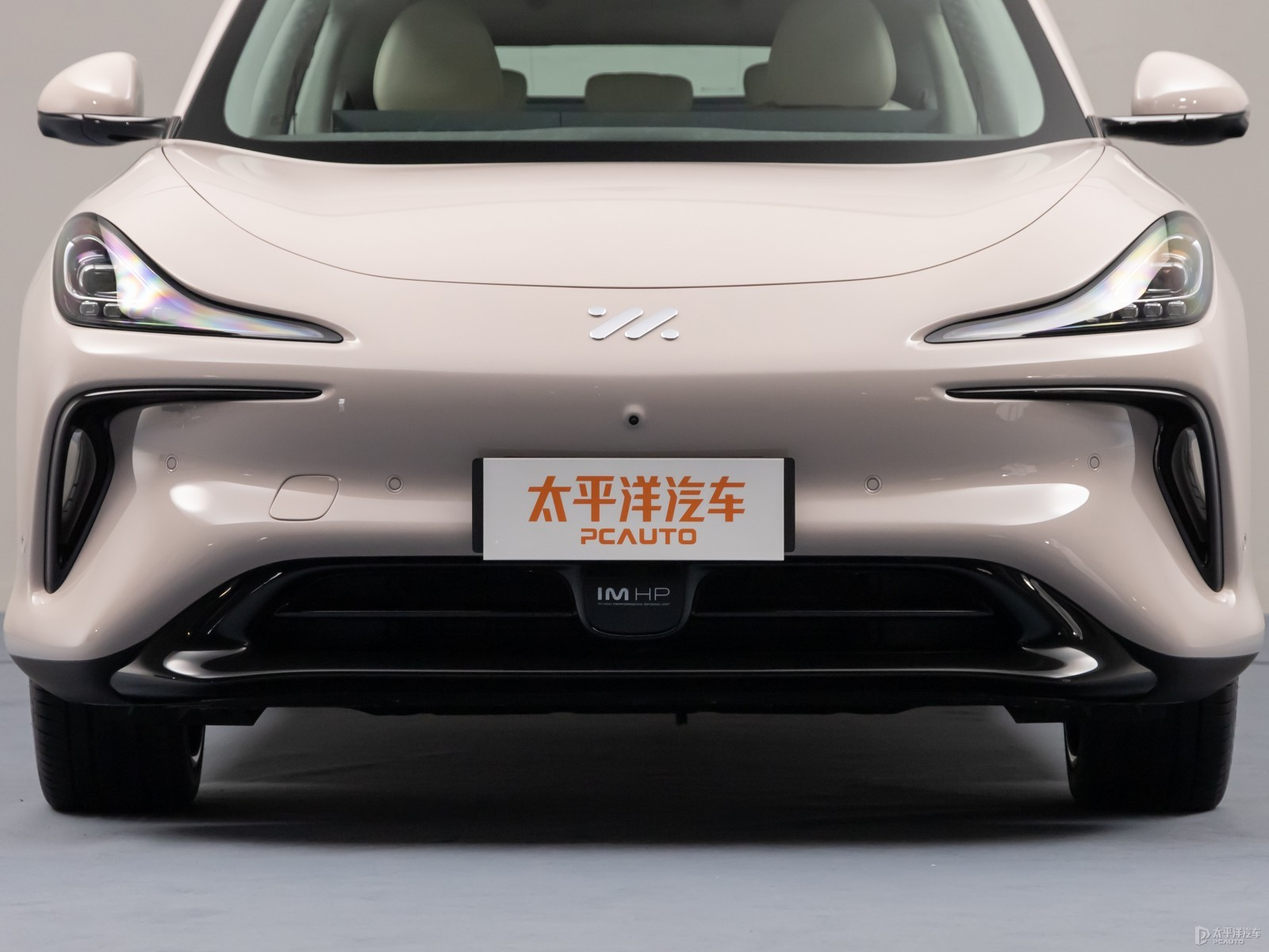IM: (588, 308, 678, 339)
